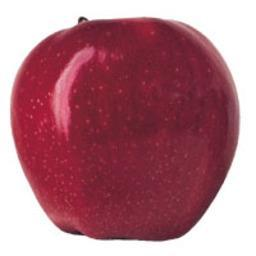apple: (11, 15, 240, 242)
